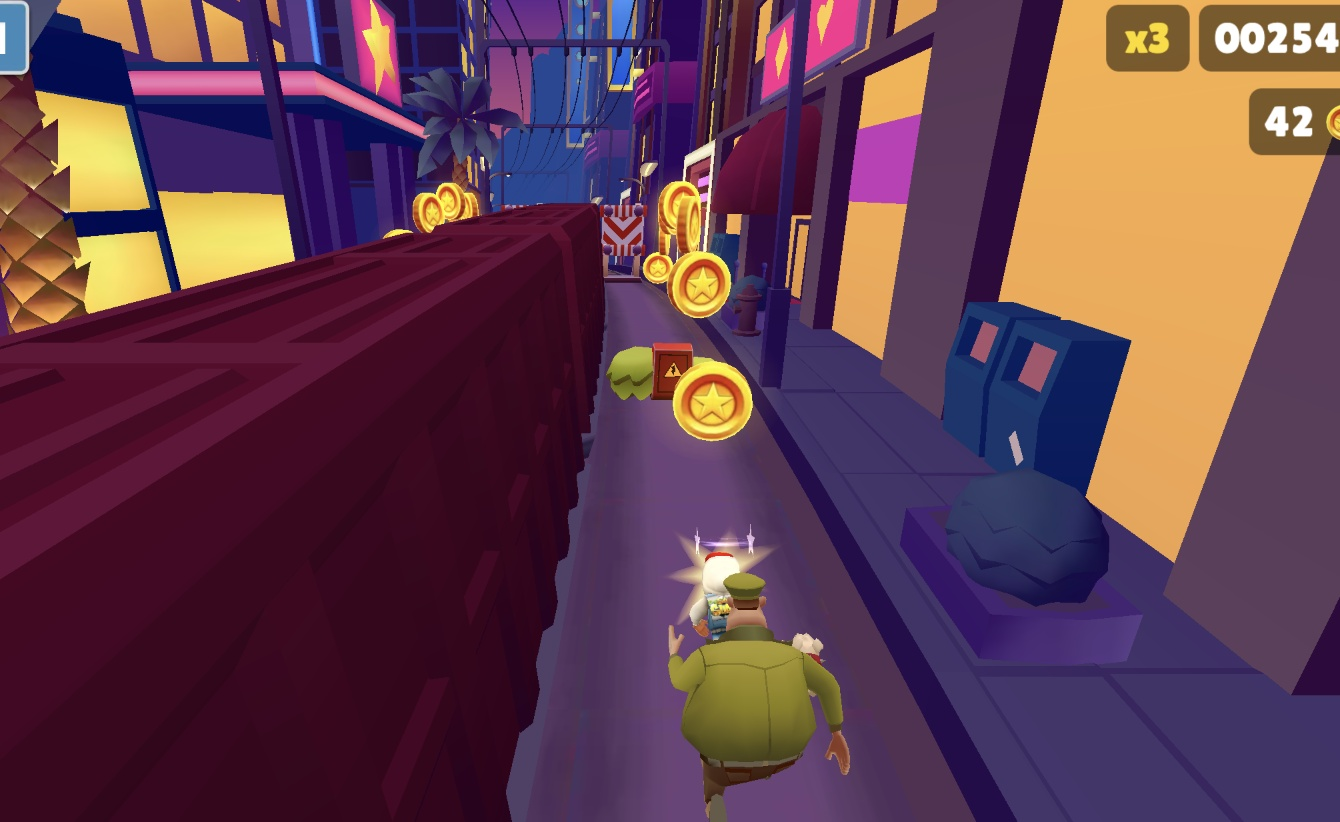bush: (605, 343, 656, 401), (692, 350, 718, 363)
overhead_barrier: (600, 208, 643, 282)
small_obstacle: (652, 341, 693, 399)
train: (0, 202, 601, 822)
